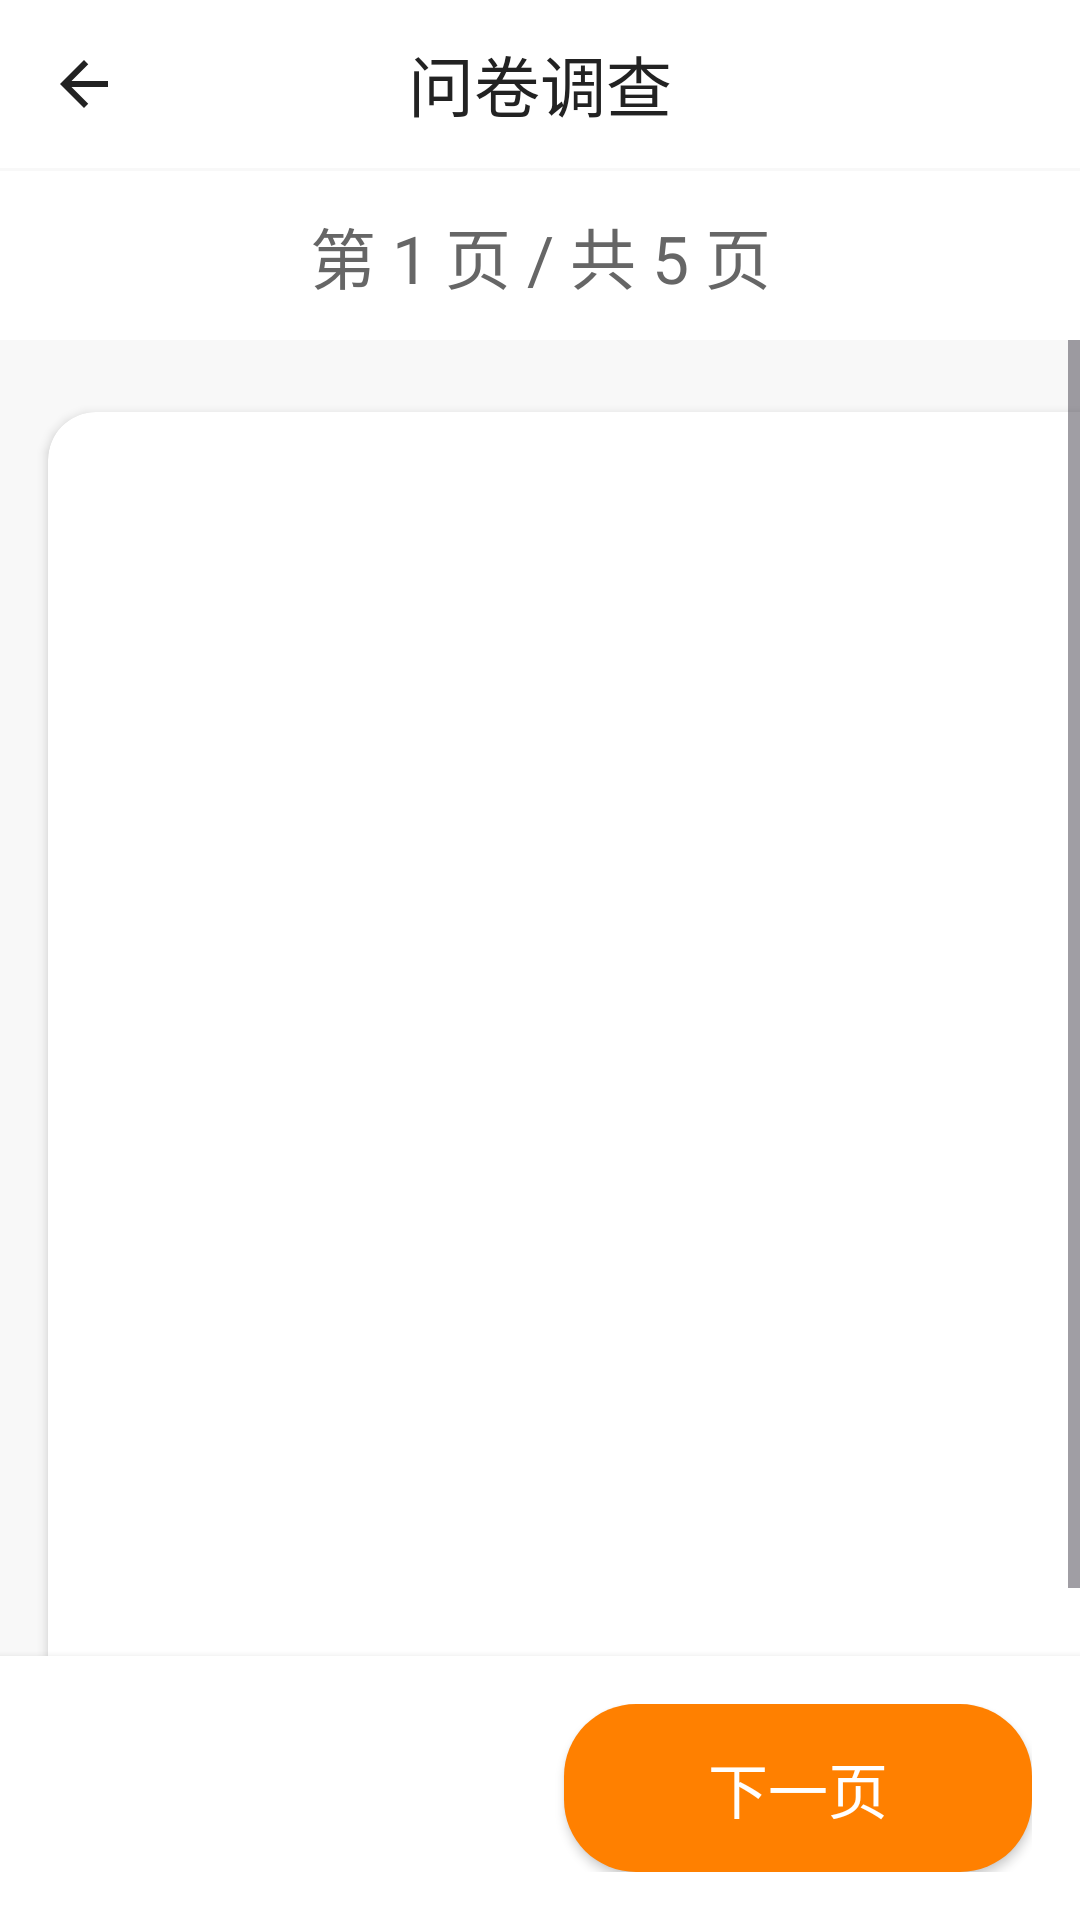

Named icons in this screenshot (1080*1920) and their centers, [x,y]:
返回: [84,84]
